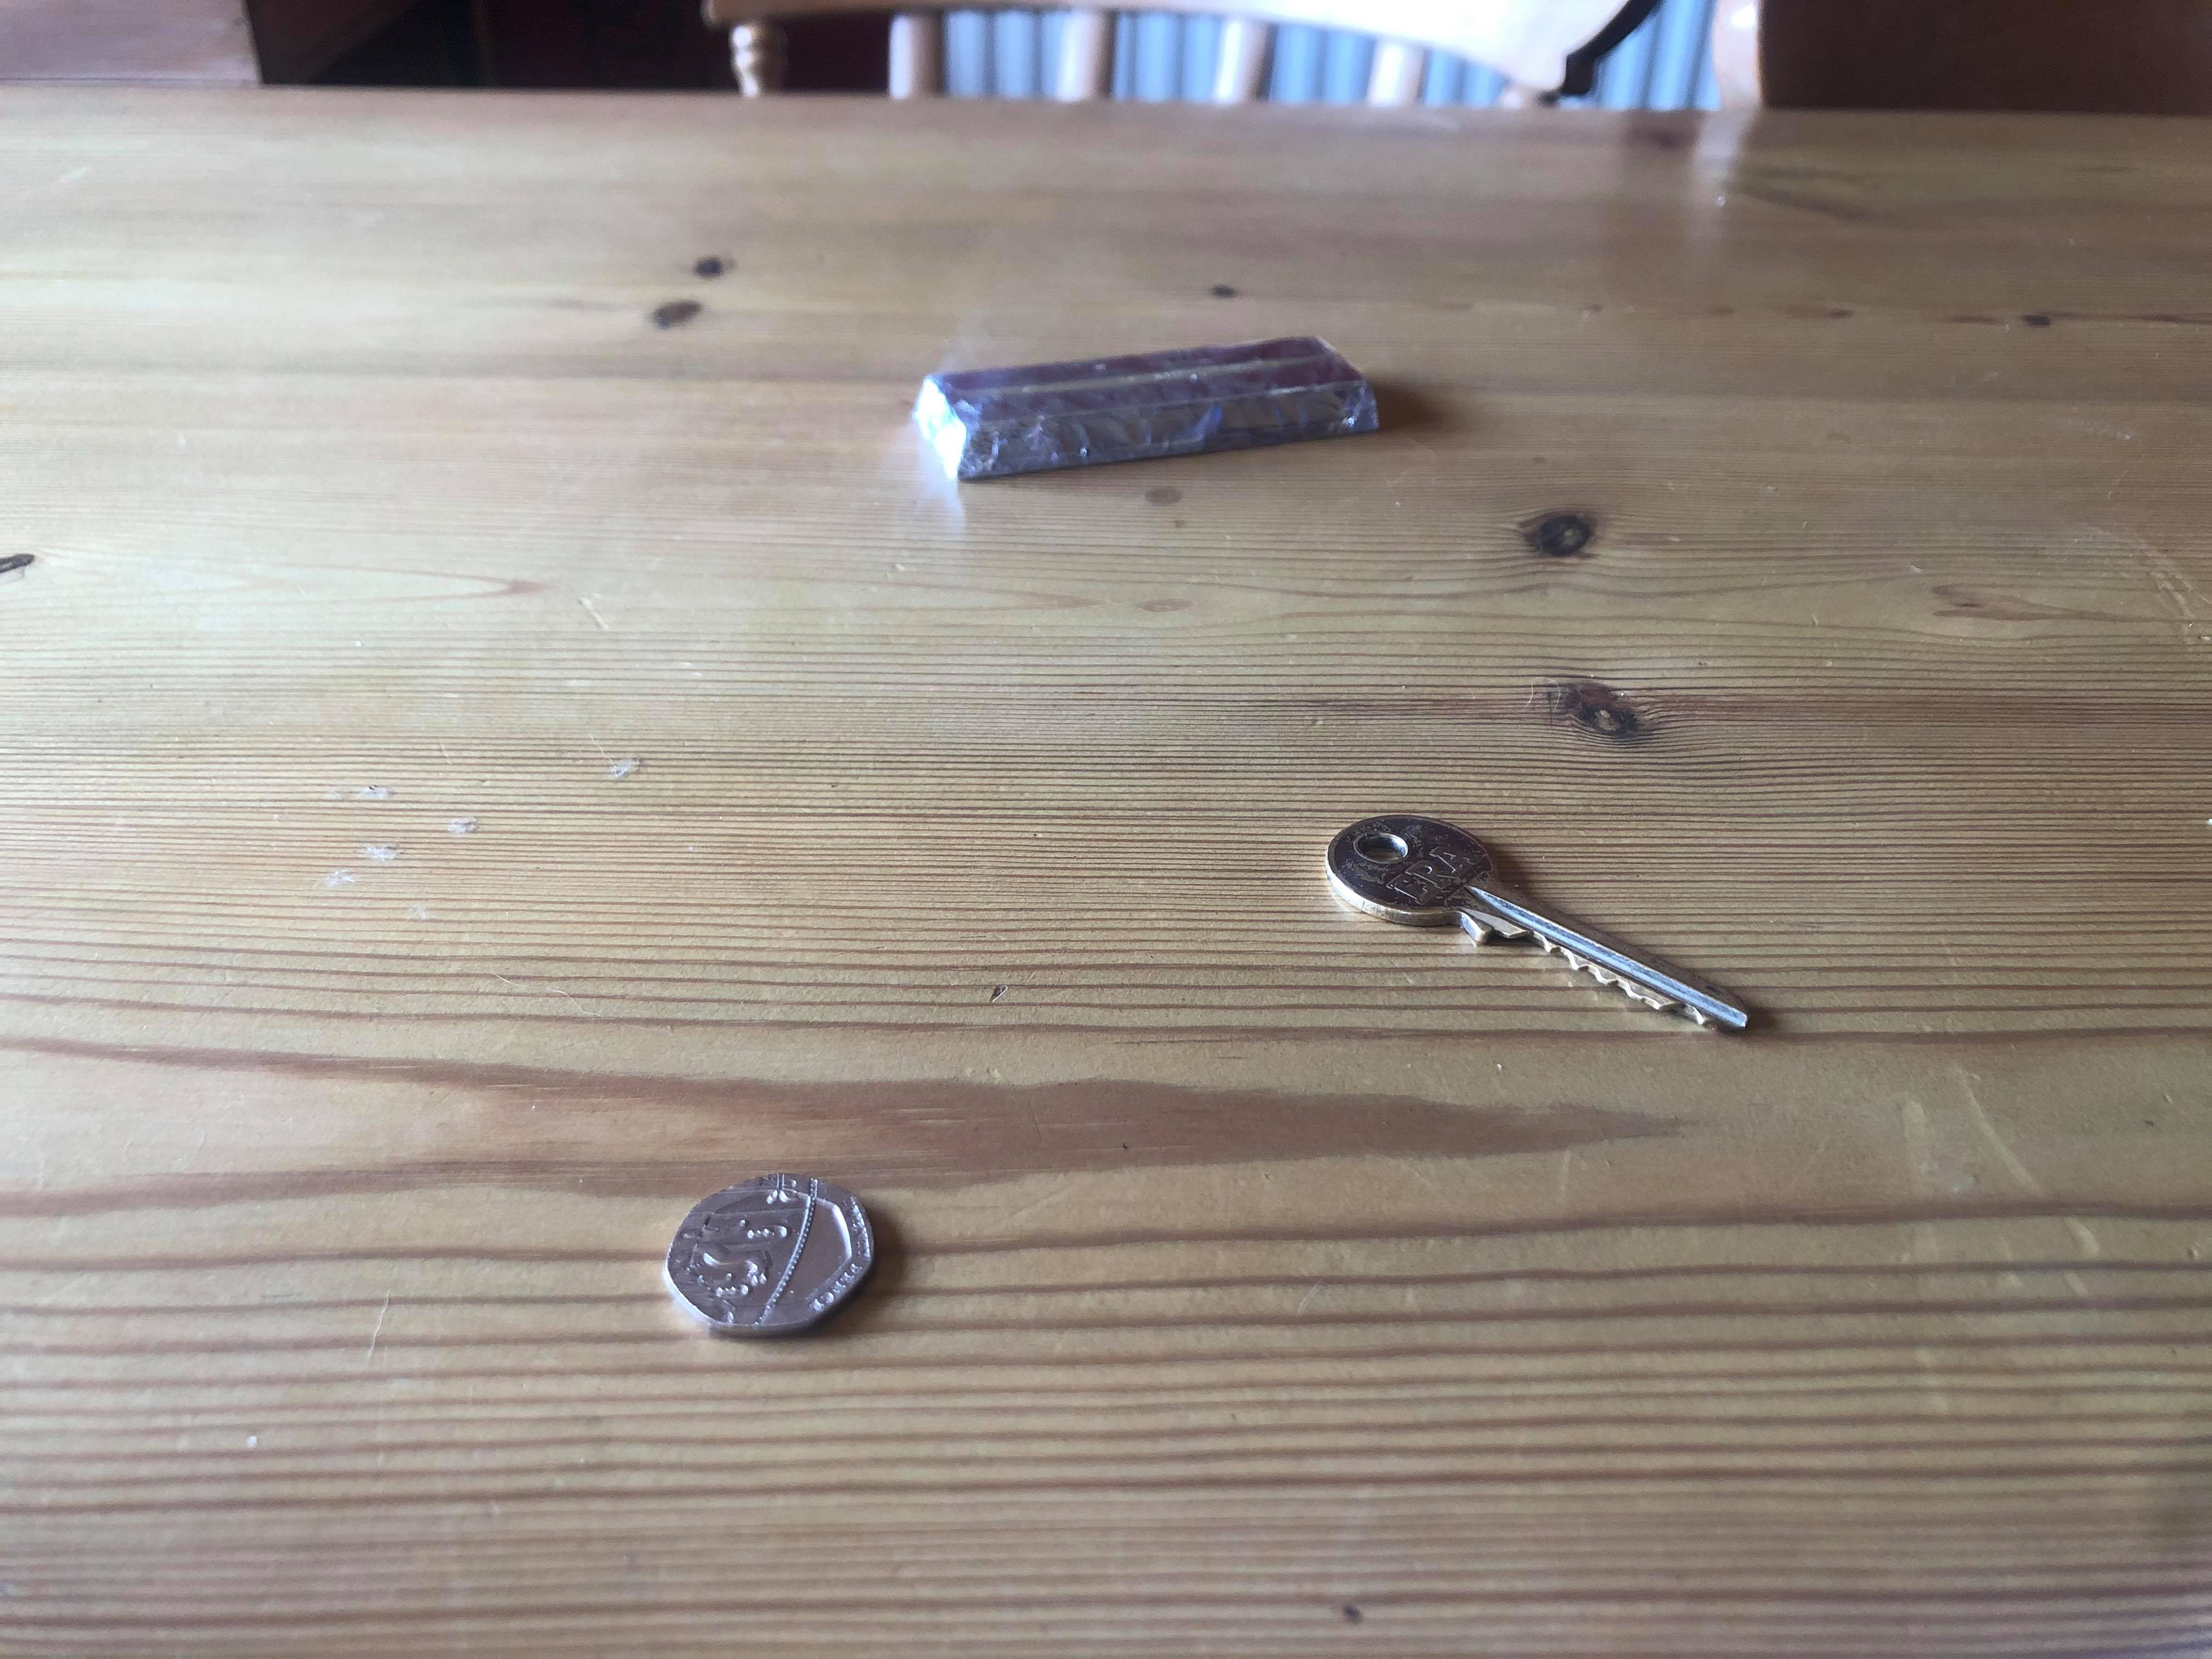Coin: (653, 1175, 883, 1351)
Foil: (907, 333, 1399, 502)
Key: (1315, 814, 1756, 1049)
